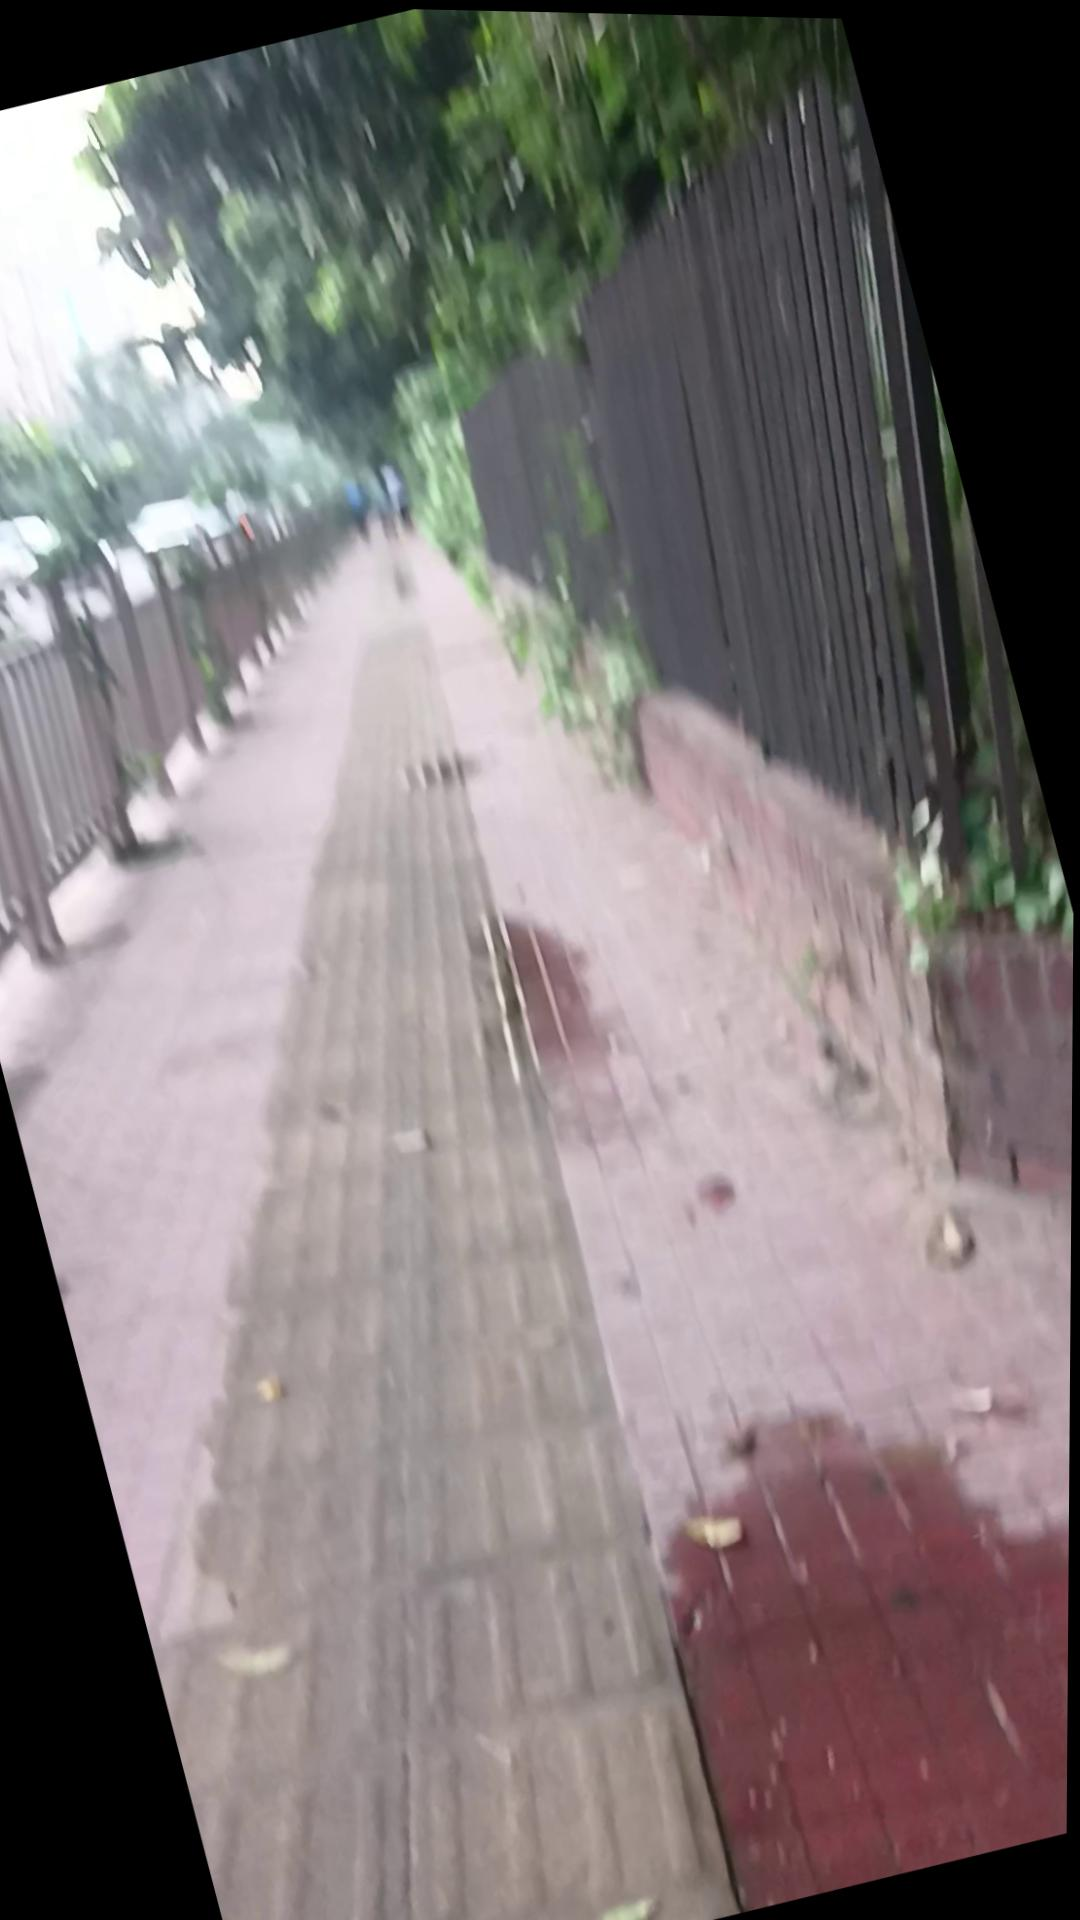Muddy road: (376, 454, 418, 535), (339, 471, 381, 547)
Potted-plant: (0, 360, 1077, 1920)
Railroad-crossing: (624, 1321, 1072, 1913)
